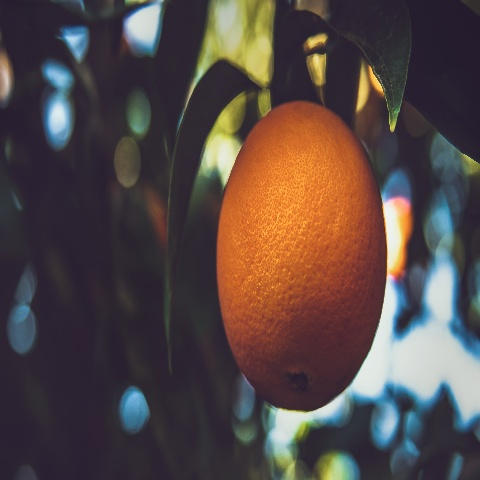orange: (199, 96, 422, 423)
